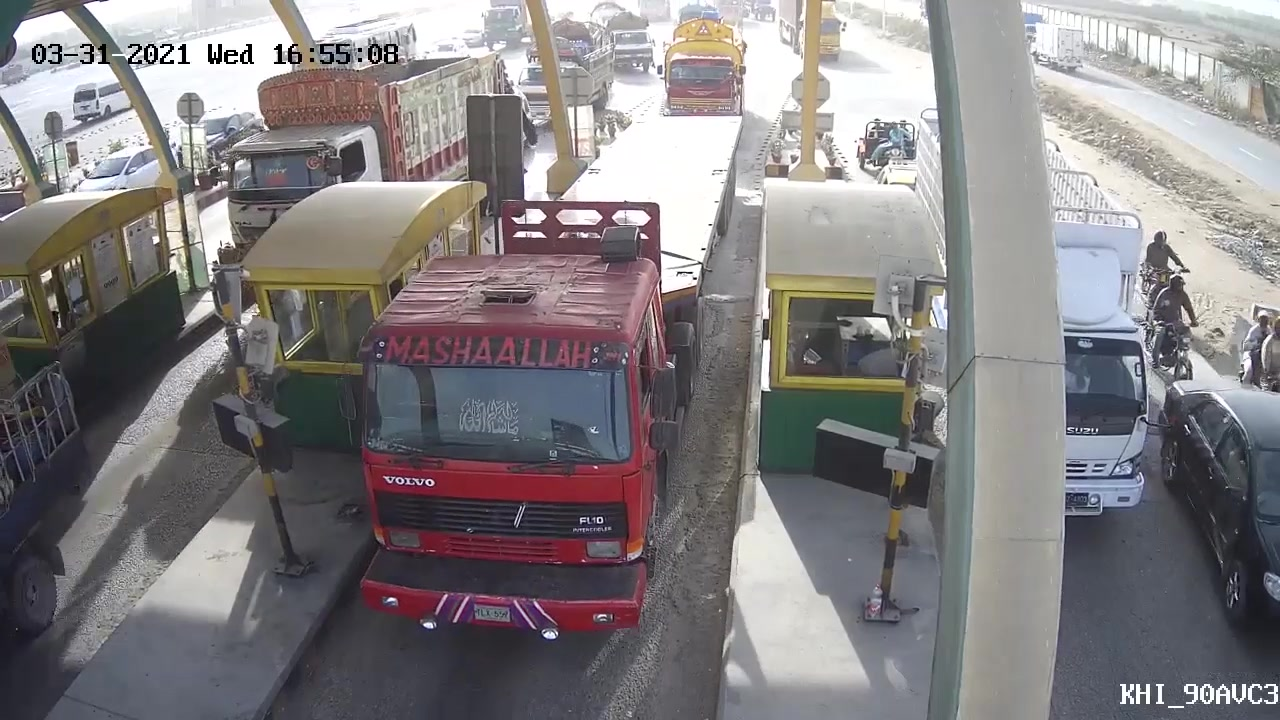F6: (350, 108, 743, 652)
